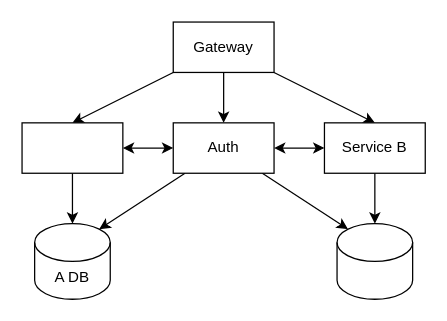
The diagram is 447 pixels wide and 321 high, and some of its shapes have lost their labels. Each missing label, with the box of its shape:
B DB: (336, 222, 413, 299)
Service A: (21, 122, 123, 173)
